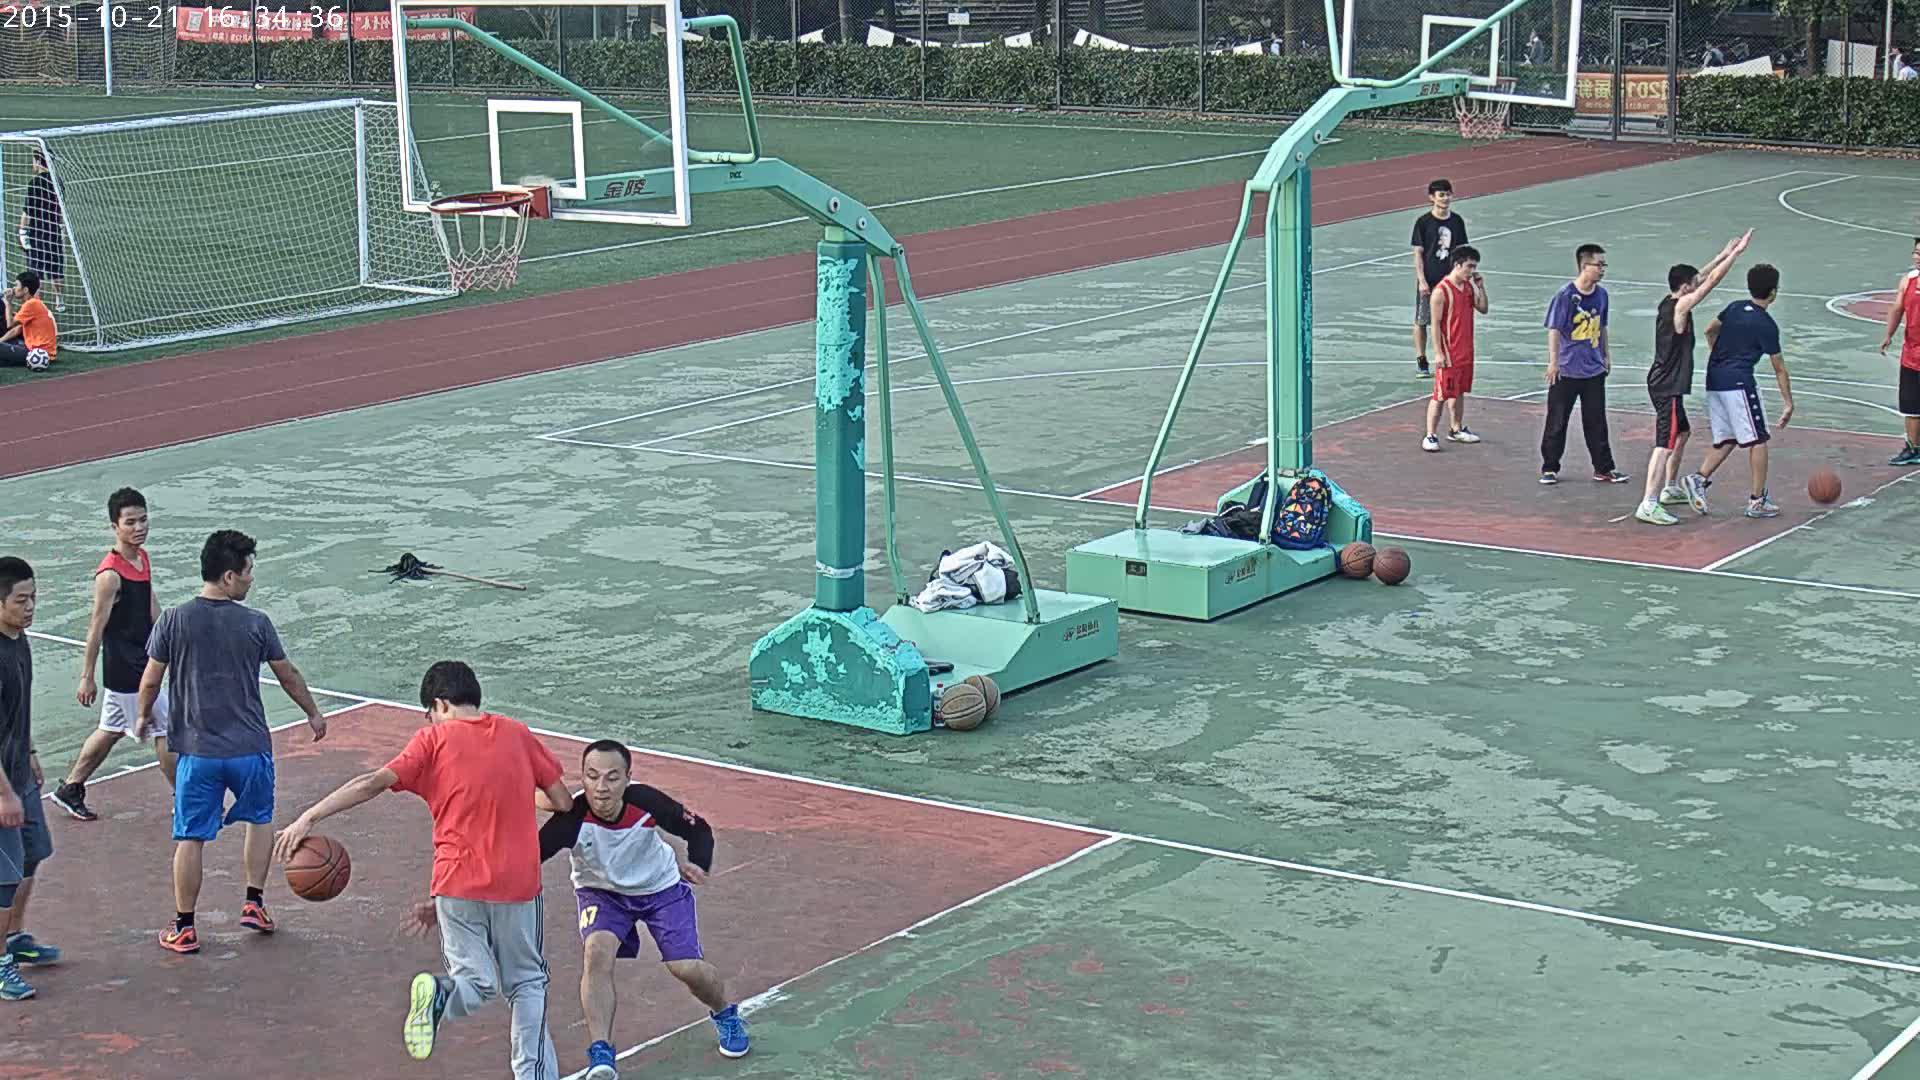person: (273, 657, 574, 1080), (272, 657, 572, 1080), (403, 738, 751, 1080), (134, 530, 329, 953), (49, 487, 173, 821), (1634, 225, 1757, 525), (1680, 262, 1794, 518), (0, 556, 62, 999), (1538, 244, 1631, 485), (1419, 243, 1488, 450), (1411, 178, 1471, 378), (1879, 236, 1920, 464), (18, 148, 66, 315), (0, 270, 58, 365), (1526, 24, 1545, 66), (1700, 37, 1724, 65), (1890, 43, 1907, 78), (1896, 55, 1917, 81)
